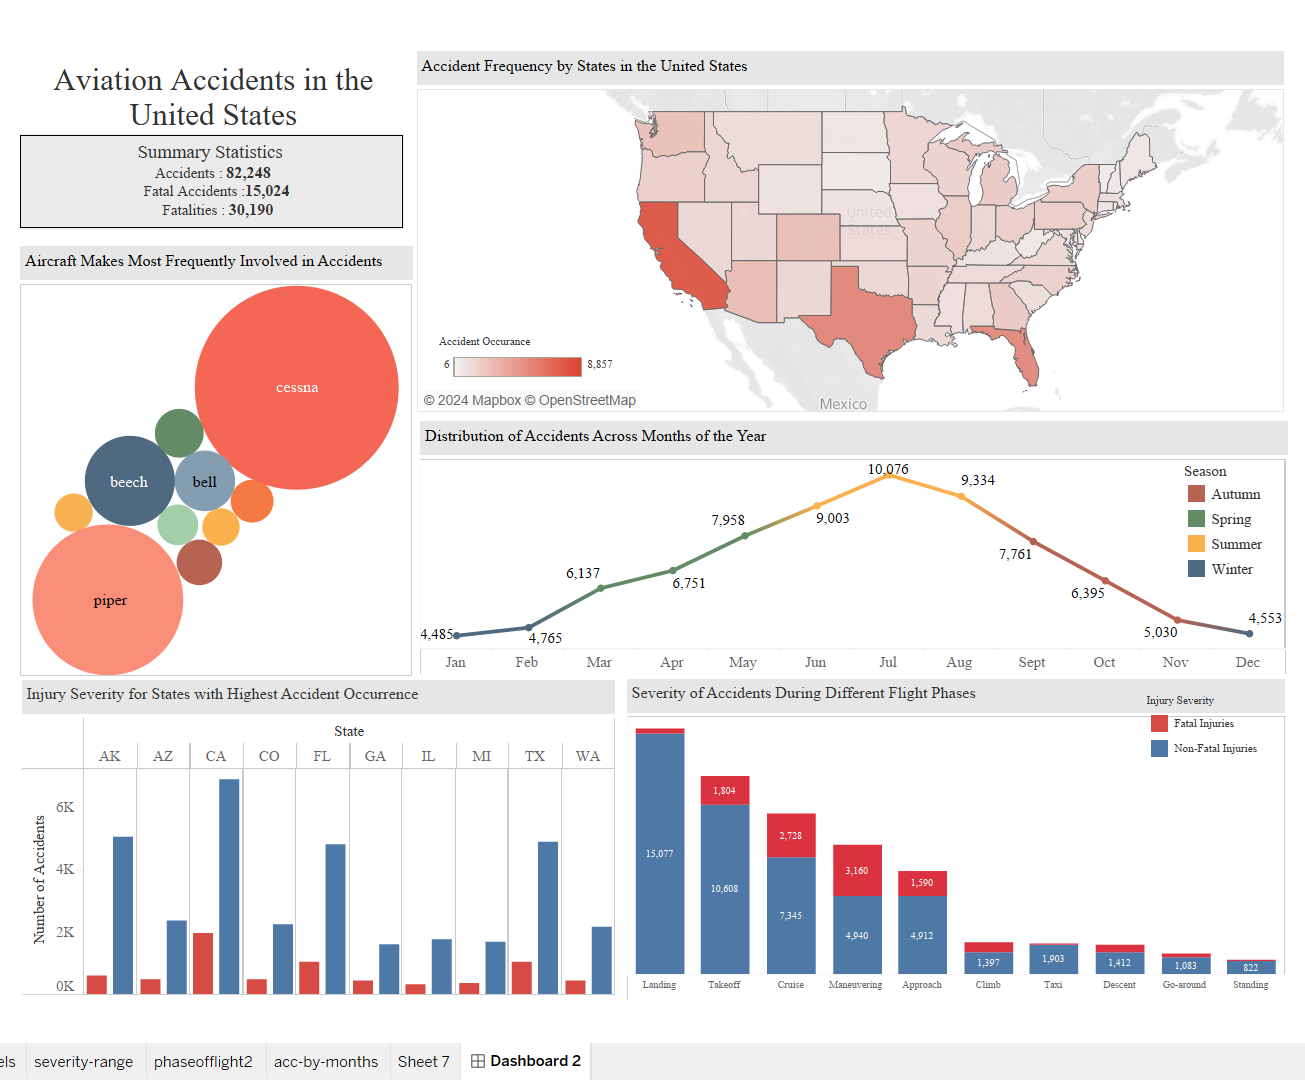

This screenshot's page, from the dashboard's own definition file:
{"tool":"tableau","page":{"name":"Dashboard 2","canvas":[1024,768],"ordinal":0},"visuals":[{"type":"title","box":[12,1,303,88]},{"type":"worksheet","title":"states-accident","mark":"Automatic","box":[326,8,694,289]},{"type":"worksheet","title":"Sheet 7","mark":"Automatic","box":[9,60,308,90]},{"type":"worksheet","title":"models","mark":"Circle","box":[9,164,314,358]},{"type":"legend","title":"states-accident","param":"[federated.0jjdugv1c1jitp17k8xes1us26sf].[cnt:accident_number:qk]","box":[344,235,144,59]},{"type":"worksheet","title":"acc-by-months","mark":"Automatic","rows":["accident_number"],"cols":["E Month (date)"],"box":[329,304,694,203]},{"type":"worksheet","title":"phaseofflight2","mark":"Automatic","rows":["accident_number"],"cols":["broad_phase_of_flight"],"box":[494,510,527,258]},{"type":"worksheet","title":"severity-range","mark":"Automatic","cols":["acc_state"],"box":[10,511,475,252]},{"type":"legend","title":"severity-range","param":"[federated.0jjdugv1c1jitp17k8xes1us26sf].[:Measure Names]","box":[910,522,105,57]}]}

Visuals, with their boxes on the page's 1024x768 design canvas (x1, y1, x2, y2). These are canvas units, not pixel positions in the 1305x1080 screenshot, which may show the page scaled, cropped or inside an application window:
title: (left=12, top=1, right=315, bottom=89)
"states-accident" worksheet: (left=326, top=8, right=1020, bottom=297)
"Sheet 7" worksheet: (left=9, top=60, right=317, bottom=150)
"models" worksheet (Circle marks): (left=9, top=164, right=323, bottom=522)
"states-accident" legend: (left=344, top=235, right=488, bottom=294)
"acc-by-months" worksheet: (left=329, top=304, right=1023, bottom=507)
"phaseofflight2" worksheet: (left=494, top=510, right=1021, bottom=768)
"severity-range" worksheet: (left=10, top=511, right=485, bottom=763)
"severity-range" legend: (left=910, top=522, right=1015, bottom=579)
